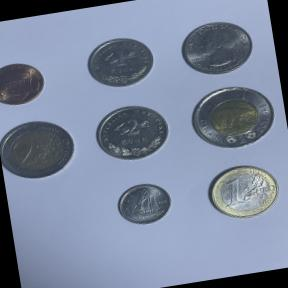1 Euro: (199, 156, 287, 225)
2 Euro: (0, 111, 84, 186)
Canda-10cent-: (110, 176, 179, 232)
Canda-2Dollar-: (180, 76, 284, 158)
Croatia-2Kune-: (87, 96, 176, 168)
US-1cent-: (0, 55, 52, 111)
US-25cent-: (173, 14, 261, 84)
